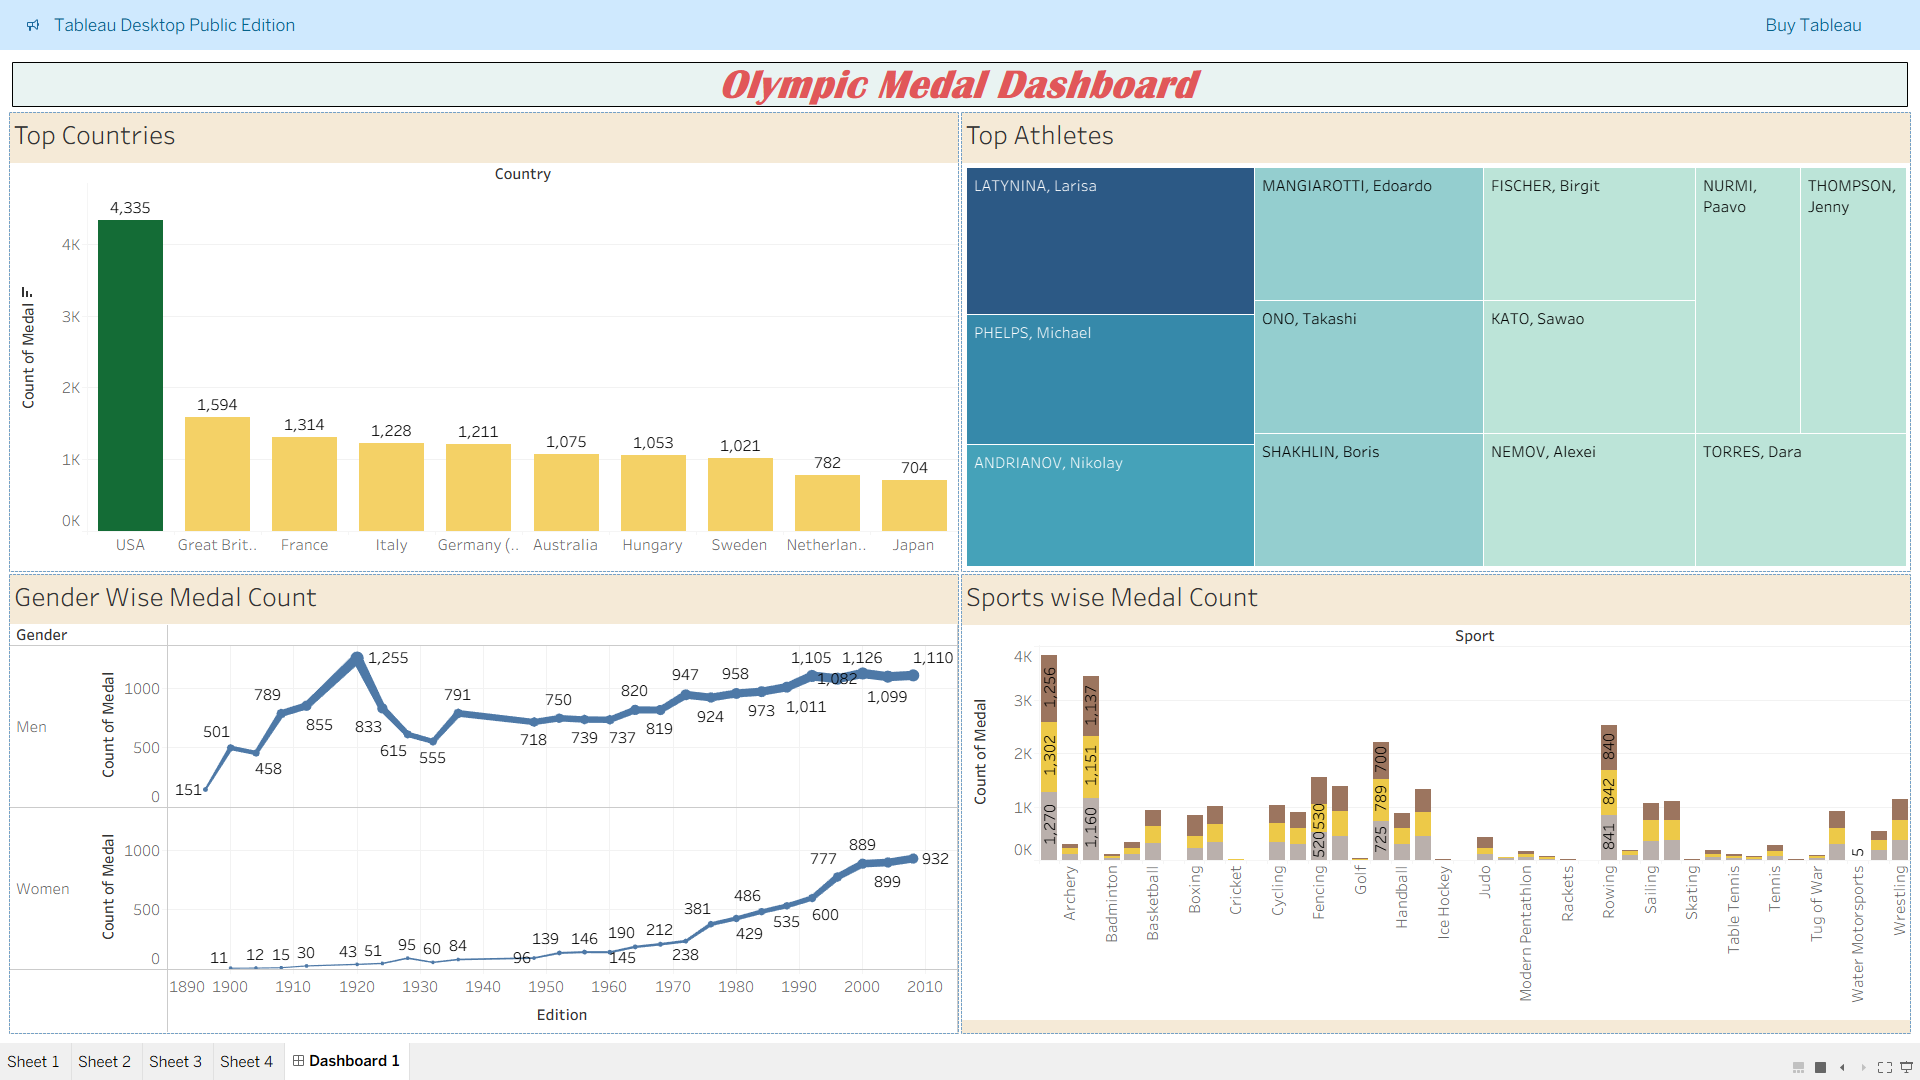

This screenshot's page, from the dashboard's own definition file:
{"tool":"tableau","page":{"name":"Dashboard 1","canvas":[1000,1000],"units":"permille","ordinal":0},"visuals":[{"type":"title","box":[4.8,9.9,990.3,65.3]},{"type":"worksheet","title":"Sheet 1","mark":"Automatic","rows":["Medal"],"cols":["Country"],"box":[4.8,75.2,495.2,457.4]},{"type":"worksheet","title":"Sheet 2","mark":"Automatic","box":[500,75.2,495.2,457.4]},{"type":"worksheet","title":"Sheet 3","mark":"Automatic","rows":["Gender","Medal"],"cols":["Edition"],"box":[4.8,532.6,495.2,457.6]},{"type":"worksheet","title":"Sheet 4","mark":"Automatic","rows":["Medal"],"cols":["Sport"],"box":[500,532.6,495.2,457.6]}]}

Visuals, with their boxes on the dashboard's canvas, which has no fixed pixel size, in thousandths of its width and height (x1, y1, x2, y2). These are canvas units, not pixel positions in the 1920x1080 screenshot, which may show the page scaled, cropped or inside an application window:
title: x1=5 y1=10 x2=995 y2=75
"Sheet 1" worksheet: x1=5 y1=75 x2=500 y2=533
"Sheet 2" worksheet: x1=500 y1=75 x2=995 y2=533
"Sheet 3" worksheet: x1=5 y1=533 x2=500 y2=990
"Sheet 4" worksheet: x1=500 y1=533 x2=995 y2=990
